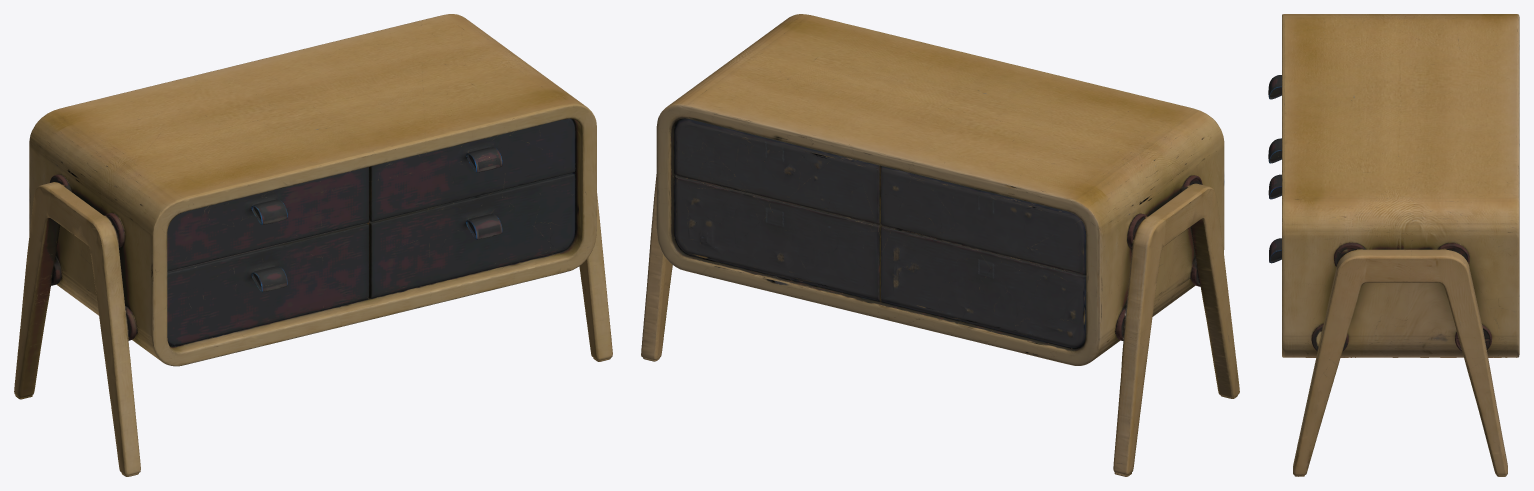
File: kommode.glb
3 views of the same model, side by side, from view 1: azimuth 30°, elevation 25°; view 2: azimuth 150°, elevation 25°; view 3: azimuth 270°, elevation 25° (orthographic). The views are drawn at different scales.
Parts seen in each view (by area): view 1: tmpcdjy2myzobj; view 2: tmpcdjy2myzobj; view 3: tmpcdjy2myzobj.
Part boxes in pixels (x1,y1,x2,y2): tmpcdjy2myzobj: (14,14,612,476); tmpcdjy2myzobj: (641,14,1239,476); tmpcdjy2myzobj: (1268,14,1519,476).
Bounding box in the file's own units: 1 × 0.5306 × 0.4678.
1 material, 1 textured.
